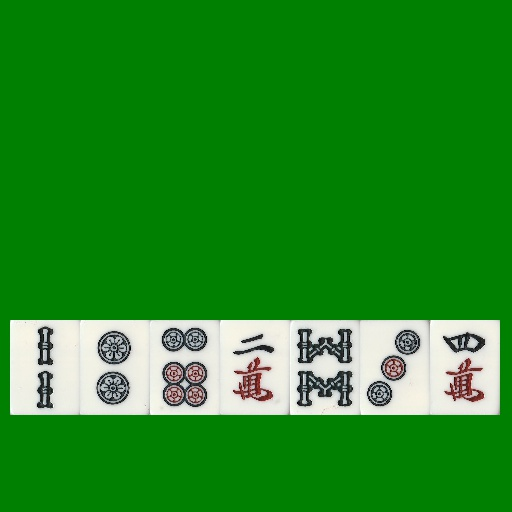2m: (220, 320, 290, 415)
2p: (80, 320, 150, 415)
2s: (10, 320, 80, 415)
3p: (360, 320, 430, 415)
4m: (430, 320, 500, 415)
6p: (150, 320, 220, 415)
8s: (290, 320, 360, 415)
